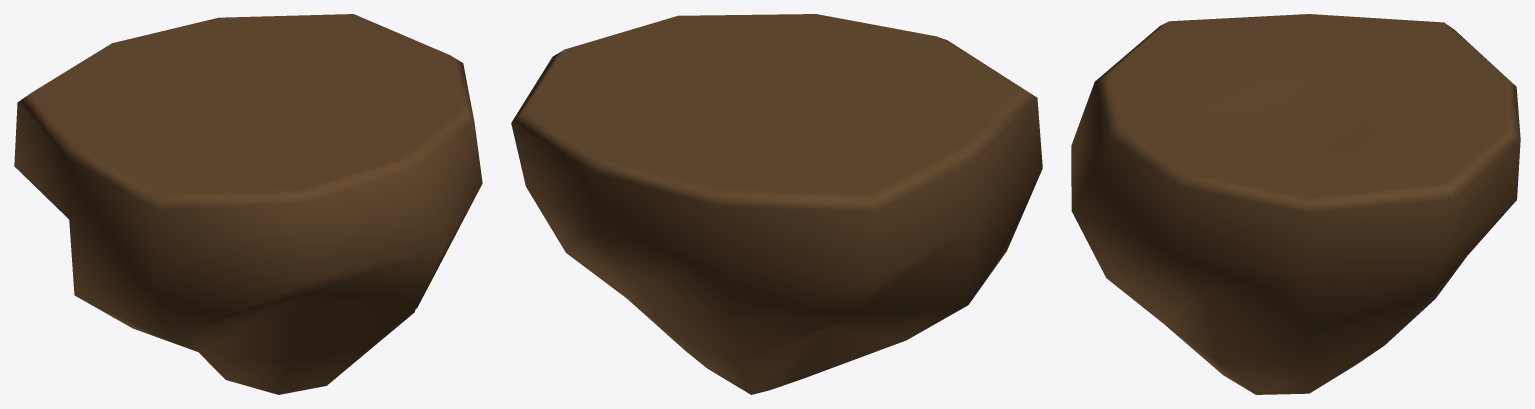
The model's file is SimpleIsland.fbx.
3 renders of one model, left to right at view 1: azimuth 30°, elevation 25°; view 2: azimuth 150°, elevation 25°; view 3: azimuth 270°, elevation 25°, orthographic. The views are drawn at different scales.
Visible parts, largest first — view 1: island; view 2: island; view 3: island.
Boxes of the visible parts, left/top/right/bottom form: island: left=14, top=14, right=482, bottom=394; island: left=511, top=14, right=1042, bottom=394; island: left=1071, top=14, right=1520, bottom=394.
Bounding box in the file's own units: 5.88 × 3.86 × 5.7.
